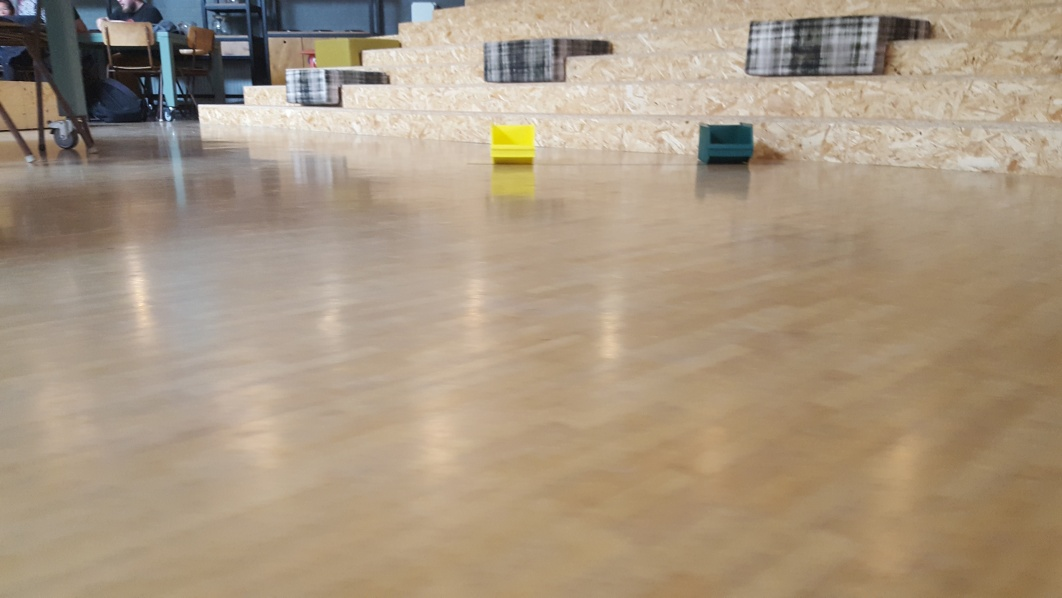tray: (692, 118, 761, 166), (485, 121, 540, 164)
